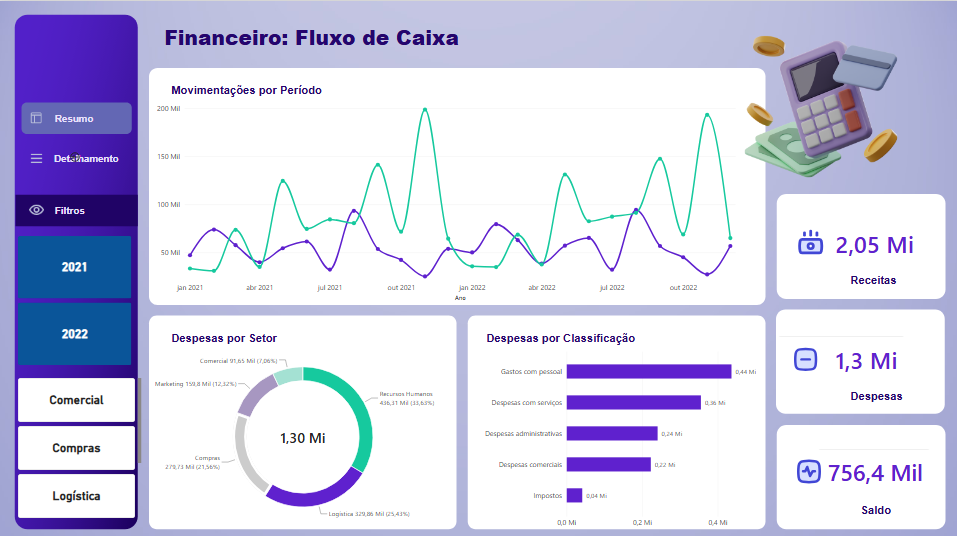

The page's visual inventory and layout, read from the dashboard file:
{"tool":"powerbi","page":{"name":"Página 1","canvas":[1920,1080],"ordinal":0},"visuals":[{"type":"cardVisual","fields":{"Data":["Medidas.RECEITA"]},"box":[1560.8,394.3,336.5,181.7],"z":0},{"type":"actionButton","box":[37.2,280.8,227.1,64],"z":1000},{"type":"cardVisual","fields":{"Data":["Medidas.DESPESA"]},"box":[1550.5,615.2,357.2,189.9],"z":2000},{"type":"cardVisual","fields":{"Data":["Medidas.Saldo"]},"box":[1585.5,846.5,328.3,173.4],"z":3000},{"type":"lineChart","fields":{"Category":["Movimentações.Data.Variação.Hierarquia de datas.Ano","Movimentações.Data.Variação.Hierarquia de datas.Trimestre","Movimentações.Data.Variação.Hierarquia de datas.Mês","Movimentações.Data.Variação.Hierarquia de datas.Dia"],"Y":["Medidas.DESPESA","Medidas.RECEITA"]},"box":[315.9,202.3,1174.7,398.5],"z":4000},{"type":"advancedSlicerVisual","fields":{"Values":["Movimentações.Data.Variação.Hierarquia de datas.Ano"]},"box":[37.2,470.7,227.1,258.1],"z":5000},{"type":"advancedSlicerVisual","fields":{"Values":["Centro de Custo.Setor"]},"box":[37.2,753.5,247.7,280.8],"z":6000},{"type":"donutChart","fields":{"Category":["Centro de Custo.Setor"],"Y":["Medidas.DESPESA"]},"box":[295.2,685.4,623.5,371.6],"z":7000},{"type":"clusteredBarChart","fields":{"Category":["Movimentações.Classificação"],"Y":["Medidas.DESPESA"]},"box":[960,693.7,573.9,363.4],"z":8000}]}

Visuals, with their boxes in screenshot pixels (x1, y1, x2, y2), scaled from the page's 1920x1080 canvas onto the 957x536 screenshot:
cardVisual - Medidas.RECEITA: [778,196,946,286]
actionButton: [19,139,132,171]
cardVisual - Medidas.DESPESA: [773,305,951,400]
cardVisual - Medidas.Saldo: [790,420,954,506]
lineChart - Movimentações.Data.Variação.Hierarquia de datas.Ano x Movimentações.Data.Variação.Hierarquia de datas.Trimestre: [157,100,743,298]
advancedSlicerVisual - Movimentações.Data.Variação.Hierarquia de datas.Ano: [19,234,132,362]
advancedSlicerVisual - Centro de Custo.Setor: [19,374,142,513]
donutChart - Centro de Custo.Setor x Medidas.DESPESA: [147,340,458,525]
clusteredBarChart - Movimentações.Classificação x Medidas.DESPESA: [478,344,765,525]
